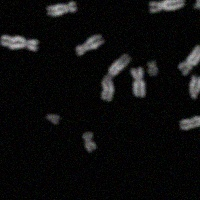chromosome: (99, 54, 131, 102), (176, 42, 200, 77), (0, 31, 39, 52), (75, 31, 105, 56), (45, 0, 78, 17), (179, 107, 200, 130), (130, 68, 146, 98), (149, 0, 185, 12), (81, 129, 96, 152), (147, 58, 159, 78), (45, 112, 61, 127), (190, 77, 200, 100), (194, 0, 200, 12)
